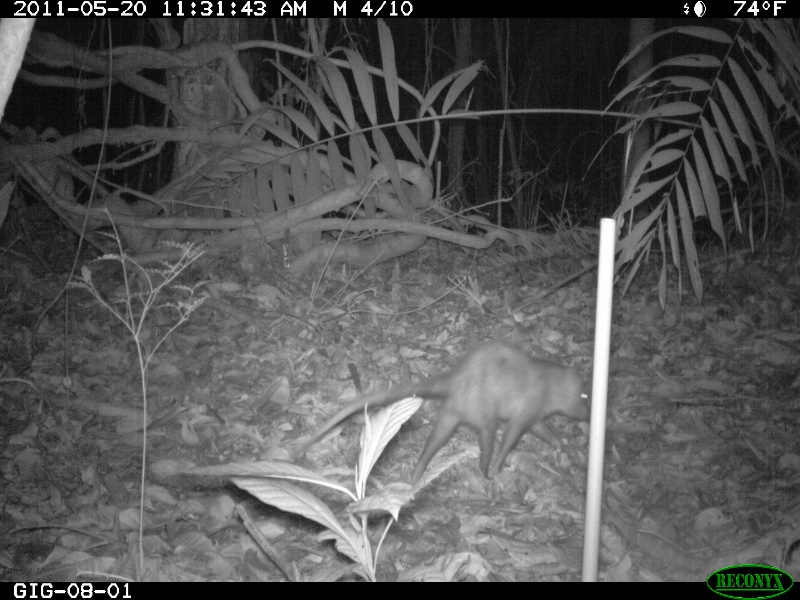opossum: (293, 337, 593, 487)
